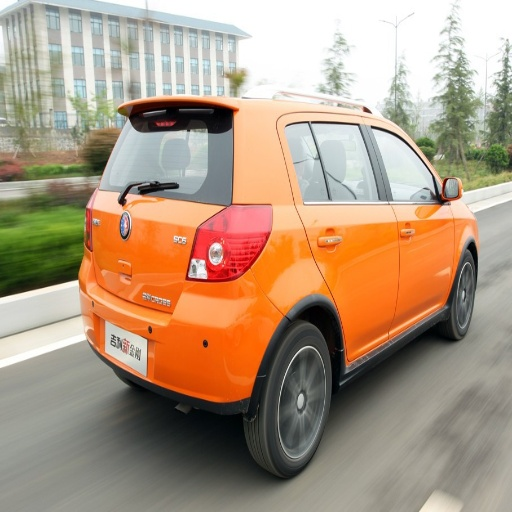back_bumper: (87, 253, 283, 415)
back_right_door: (279, 117, 399, 353)
trunk: (95, 194, 225, 356)
